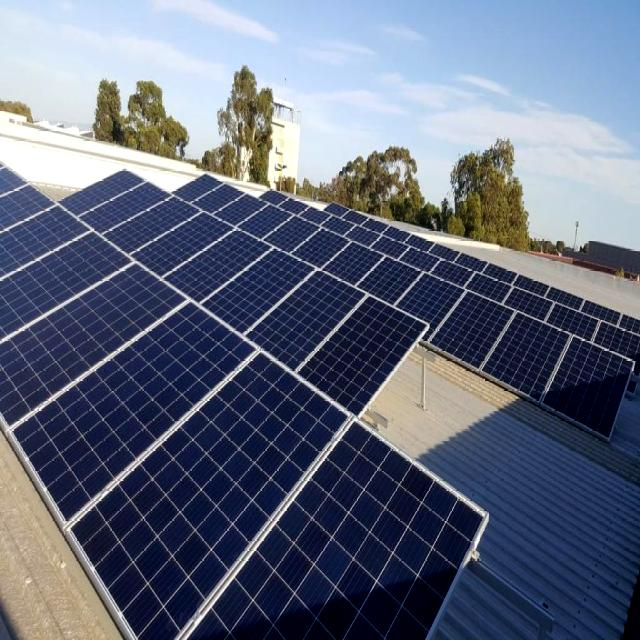crack: (68, 321, 352, 640), (10, 280, 269, 552), (180, 424, 496, 640), (284, 248, 430, 444), (250, 238, 366, 396), (544, 325, 640, 482), (430, 269, 508, 412), (482, 297, 566, 420)
